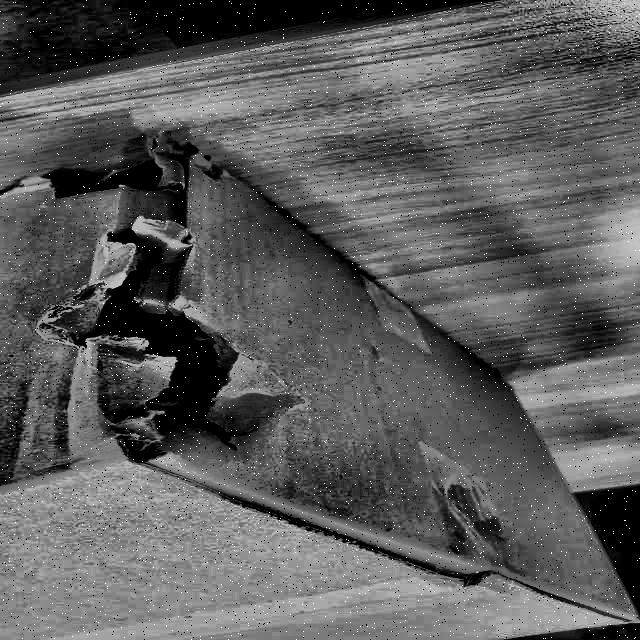box: (1, 116, 640, 640)
hole: (28, 158, 264, 448)
